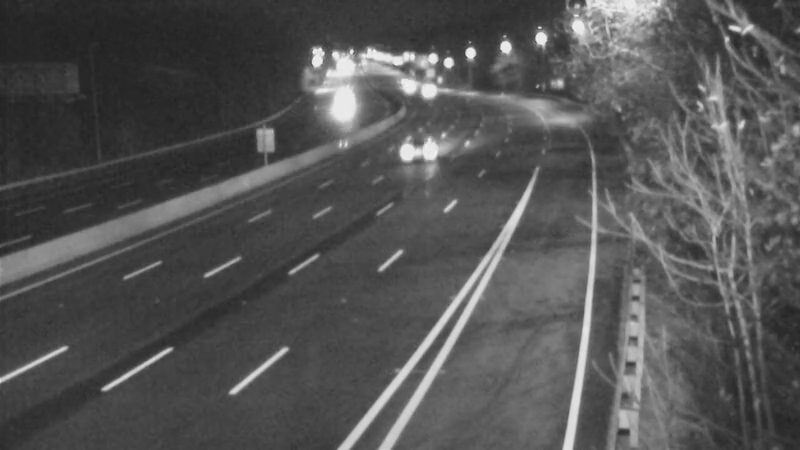vehicle: (380, 60, 430, 110), (400, 67, 450, 117), (388, 125, 438, 175), (318, 81, 368, 131)
